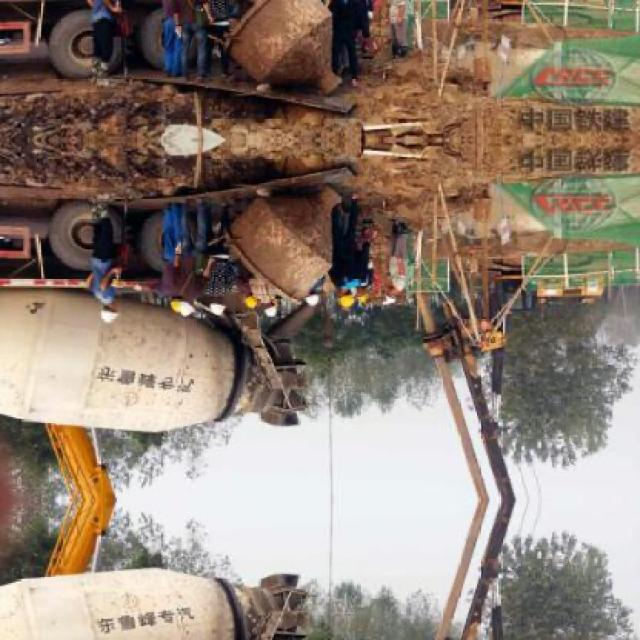con casco: (166, 279, 237, 320), (91, 283, 128, 341)
